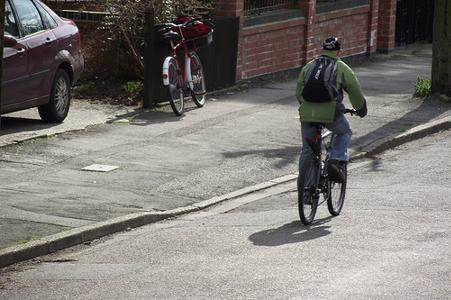person: (296, 38, 370, 207)
